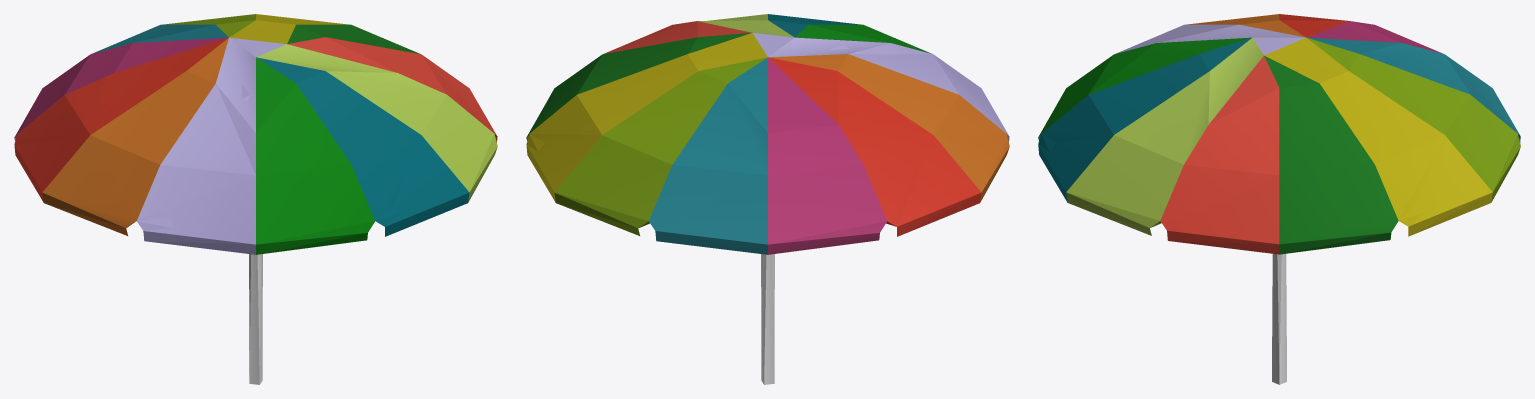
The model's file is ombrellone_LOD1.fbx.
3 renders of one model, left to right at view 1: azimuth 30°, elevation 25°; view 2: azimuth 150°, elevation 25°; view 3: azimuth 270°, elevation 25°, orthographic.
Visible parts, largest first — view 1: Sphere_002_0; view 2: Sphere_002_0; view 3: Sphere_002_0.
Boxes of the visible parts, x1=… form: Sphere_002_0: x1=14, y1=14, x2=497, y2=384; Sphere_002_0: x1=526, y1=14, x2=1009, y2=384; Sphere_002_0: x1=1038, y1=14, x2=1520, y2=384.
Size of the model in its own units: 449 by 339 by 440.
Materials: 1 (1 with a texture image).
